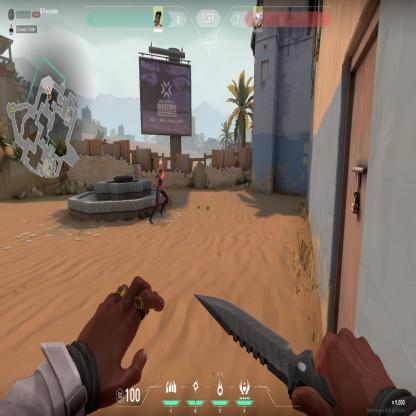enemy: (148, 158, 170, 228)
